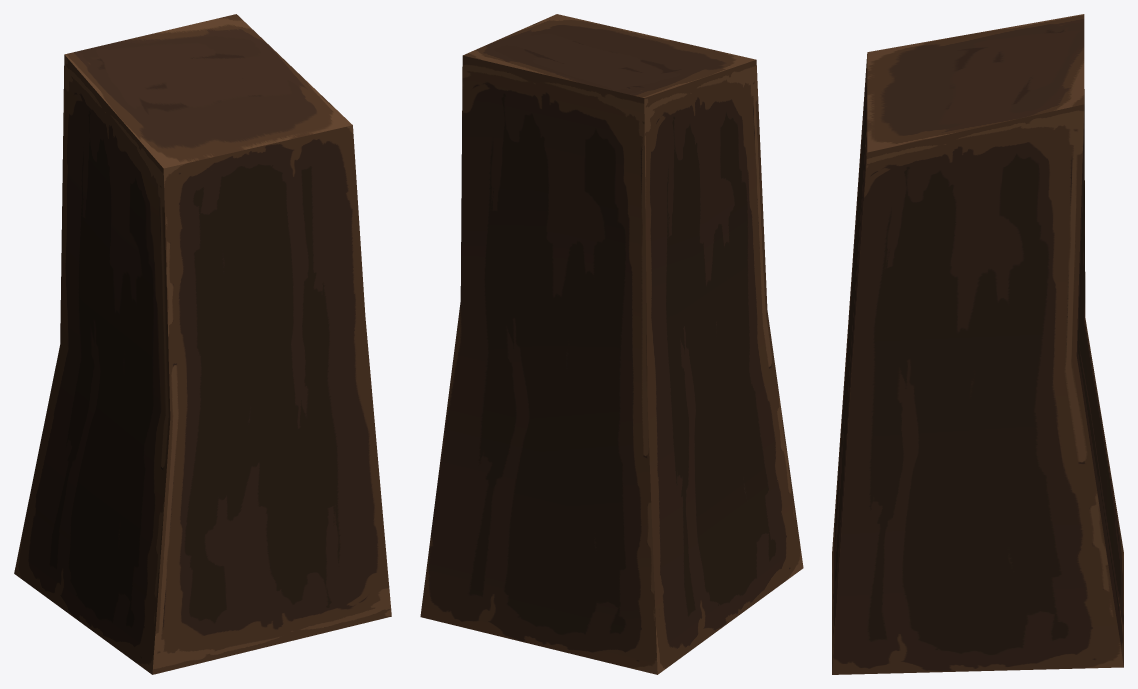
File: MOD_Column_01_small_2.fbx
The picture shows the model from 3 angles, left to right: view 1: azimuth 30°, elevation 25°; view 2: azimuth 150°, elevation 25°; view 3: azimuth 270°, elevation 25°; orthographic projection. The views are drawn at different scales.
Parts seen in each view (by area): view 1: MOD_Column_01_small_2; view 2: MOD_Column_01_small_2; view 3: MOD_Column_01_small_2.
Boxes of the visible parts, x1,y1,x2,y2 form: MOD_Column_01_small_2: [14, 14, 391, 674]; MOD_Column_01_small_2: [420, 14, 803, 674]; MOD_Column_01_small_2: [832, 14, 1123, 674].
Size of the model in its own units: 92.69 by 194 by 92.75.
